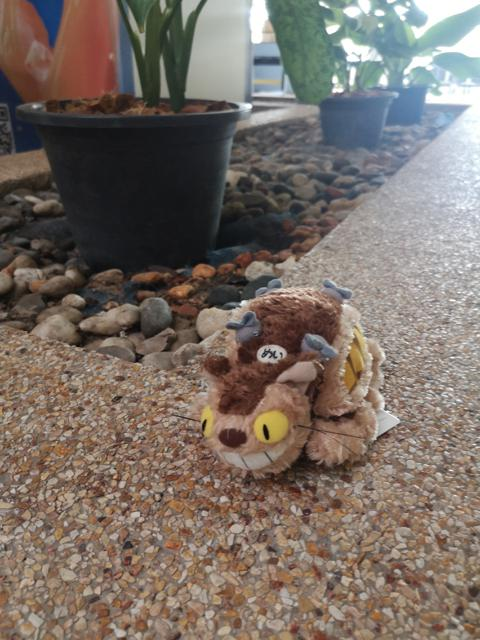nekobus: (195, 274, 401, 481)
